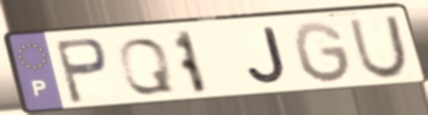1: (170, 27, 213, 98)
G: (290, 19, 355, 86)
J: (245, 25, 291, 88)
P: (51, 35, 111, 106)
Q: (116, 36, 179, 97)
U: (346, 13, 412, 81)
